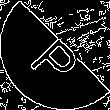P_NE: (24, 24, 86, 86)
